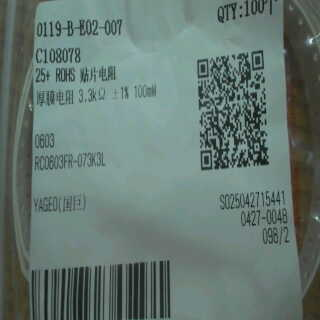3.3kO: (75, 84, 110, 106)
